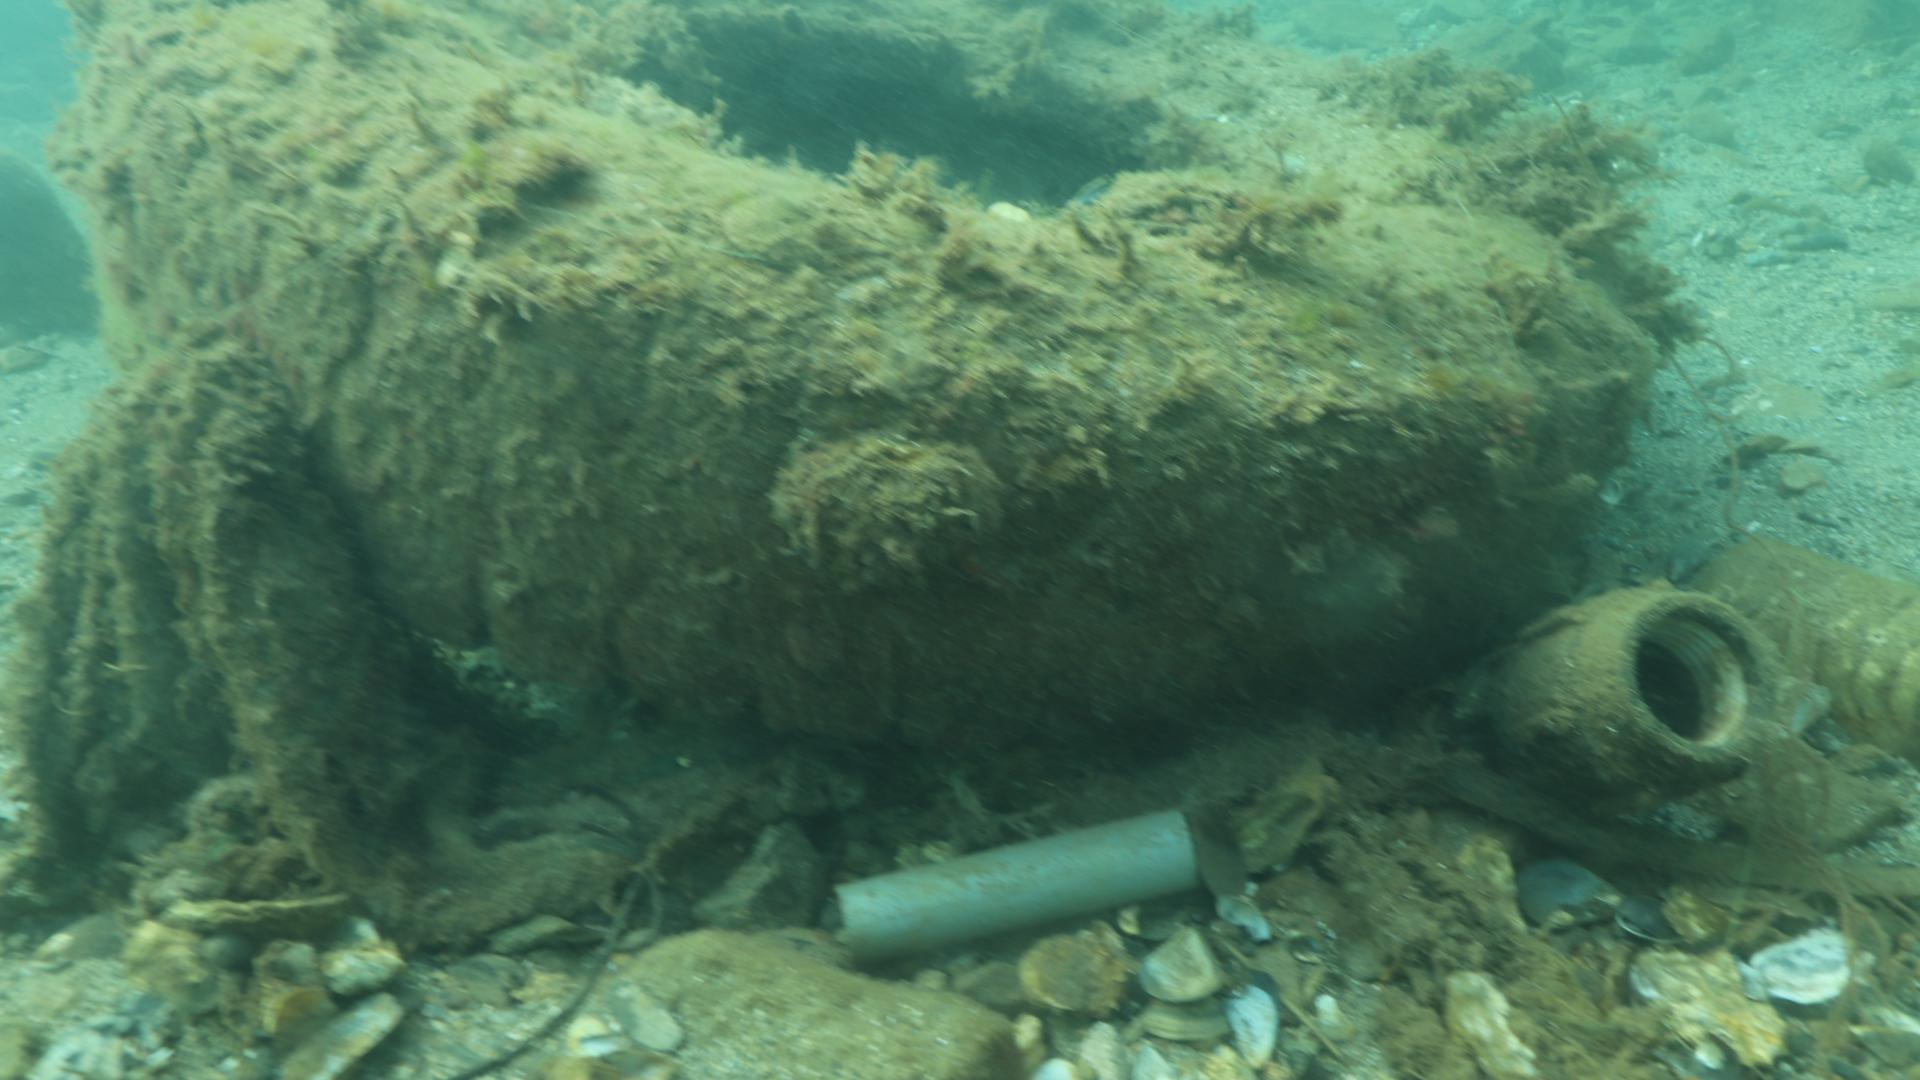tire: (80, 0, 1652, 762)
